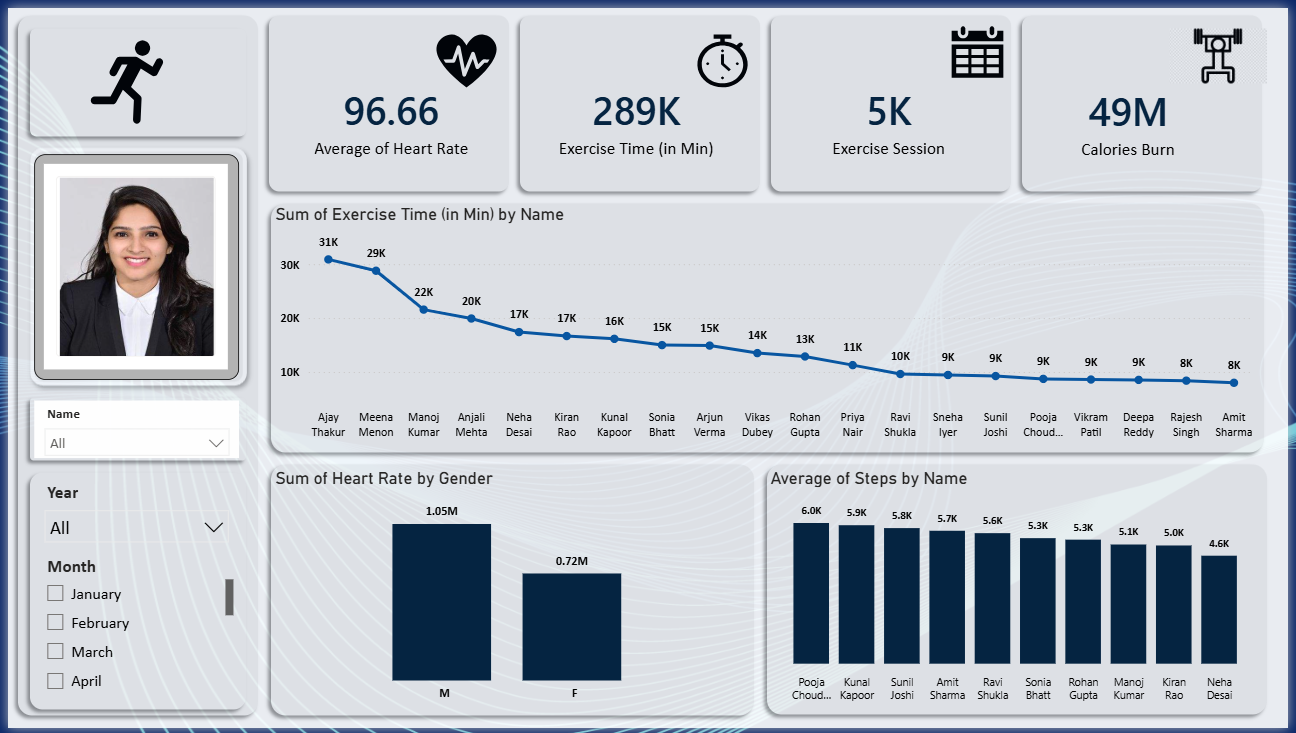

What the dashboard file says about the page in this screenshot:
{"tool":"powerbi","page":{"name":"Fitness Performance Dashboard","canvas":[1280,720],"ordinal":0},"visuals":[{"type":"cardVisual","fields":{"Data":["Min(UserData.Name)"]},"box":[25.8,146,204.9,225.8],"z":0},{"type":"slicer","fields":{"Values":["UserData.Name"]},"box":[25.8,392.6,204.9,57.7],"z":1000},{"type":"lineChart","fields":{"Category":["UserData.Name"],"Y":["Sum(Fitness Status.Exercise Time (in Min))"]},"box":[262.1,196.2,990.7,242.9],"z":2000},{"type":"cardVisual","fields":{"Data":["Avg(Fitness Status.Heart Rate)"]},"box":[271.2,49.1,224.5,128.8],"z":3000},{"type":"cardVisual","fields":{"Data":["Sum(Fitness Status.Calories)"]},"box":[1007.4,50.3,225.8,128.8],"z":4000},{"type":"cardVisual","fields":{"Data":["Sum(Fitness Status.Exercise Time (in Min))"]},"box":[516.6,49.1,224.5,128.8],"z":5000},{"type":"cardVisual","fields":{"Data":["Sum(Fitness Status.Exercise Session)"]},"box":[769.3,49.1,224.5,128.8],"z":6000},{"type":"slicer","fields":{"Values":["Fitness Status.Date.Variation.Date Hierarchy.Year"]},"box":[26.1,469.3,204.5,72.7],"z":7000},{"type":"slicer","fields":{"Values":["Fitness Status.Date.Variation.Date Hierarchy.Month"]},"box":[26.1,542,204.5,146.8],"z":8000},{"type":"clusteredColumnChart","fields":{"Category":["UserData.Gender"],"Y":["Sum(Fitness Status.Heart Rate)"]},"box":[262.6,460.1,478.5,241.7],"z":9000},{"type":"clusteredColumnChart","fields":{"Y":["Avg(Fitness Status.Steps)"],"Category":["UserData.Name"]},"box":[757.5,459.7,495.4,242.9],"z":10000}]}

Visuals, with their boxes in screenshot pixels (x1, y1, x2, y2), scaled from the page's 1280x720 canvas onto the 1296x733 screenshot:
cardVisual - Min(UserData.Name): bbox=[26, 149, 234, 379]
slicer - UserData.Name: bbox=[26, 400, 234, 458]
lineChart - UserData.Name x Sum(Fitness Status.Exercise Time (in Min)): bbox=[265, 200, 1268, 447]
cardVisual - Avg(Fitness Status.Heart Rate): bbox=[275, 50, 502, 181]
cardVisual - Sum(Fitness Status.Calories): bbox=[1020, 51, 1249, 182]
cardVisual - Sum(Fitness Status.Exercise Time (in Min)): bbox=[523, 50, 750, 181]
cardVisual - Sum(Fitness Status.Exercise Session): bbox=[779, 50, 1006, 181]
slicer - Fitness Status.Date.Variation.Date Hierarchy.Year: bbox=[26, 478, 233, 552]
slicer - Fitness Status.Date.Variation.Date Hierarchy.Month: bbox=[26, 552, 233, 701]
clusteredColumnChart - UserData.Gender x Sum(Fitness Status.Heart Rate): bbox=[266, 468, 750, 714]
clusteredColumnChart - Avg(Fitness Status.Steps) x UserData.Name: bbox=[767, 468, 1269, 715]
